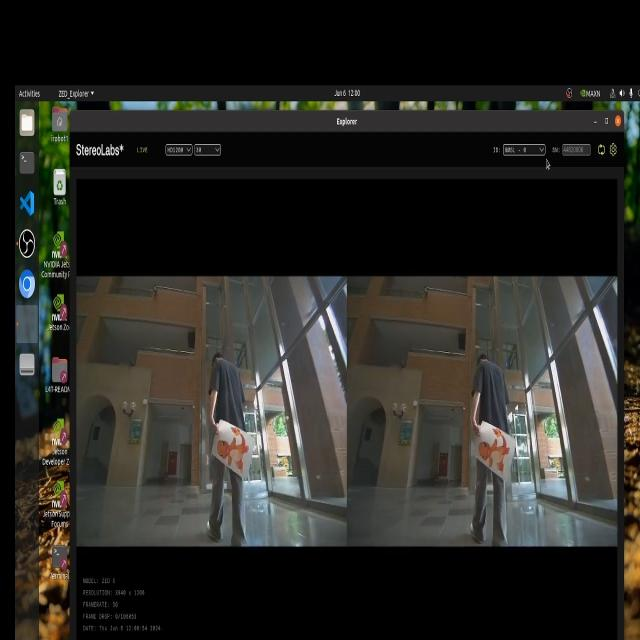red: (215, 424, 258, 482), (479, 419, 510, 484)
